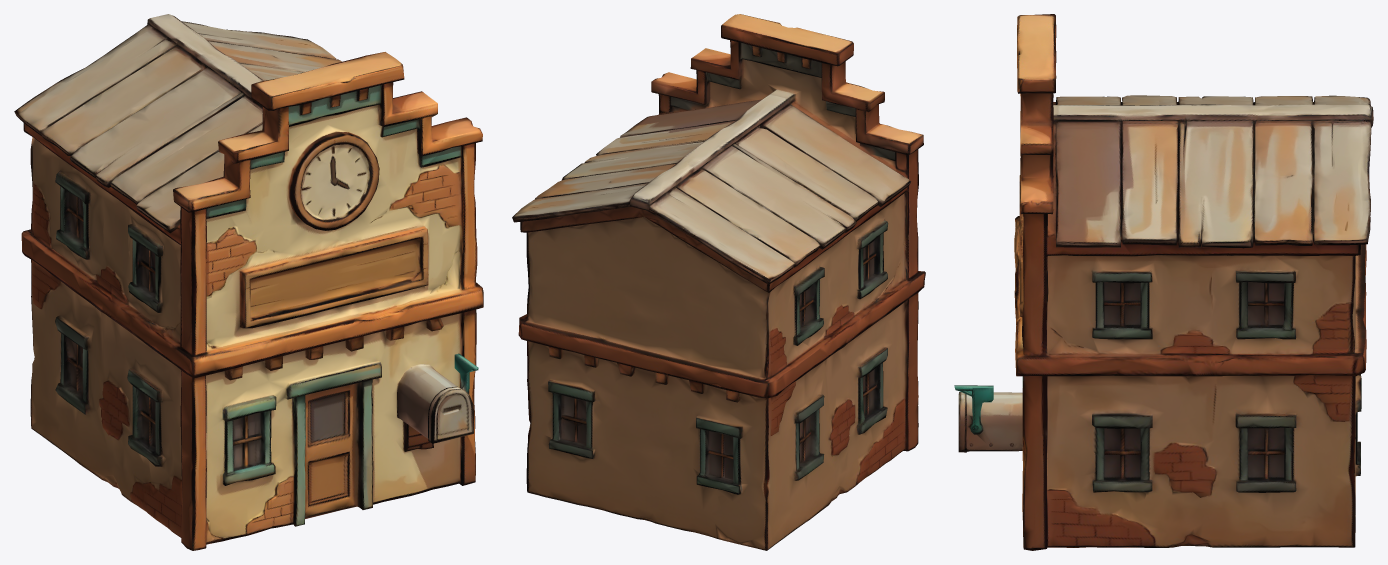
File: wl_poste.glb
3 views of the same model, side by side, from view 1: azimuth 30°, elevation 25°; view 2: azimuth 150°, elevation 25°; view 3: azimuth 270°, elevation 25° (orthographic). The views are drawn at different scales.
Visible parts, largest first — view 1: wl_poste; view 2: wl_poste; view 3: wl_poste.
Part boxes in pixels (<box>): wl_poste: <box>14,14,483,550</box>; wl_poste: <box>512,14,925,550</box>; wl_poste: <box>954,14,1373,550</box>.
Bounding box in the file's own units: 0.7186 × 1 × 0.8684.
Materials: 1 (1 with a texture image).
